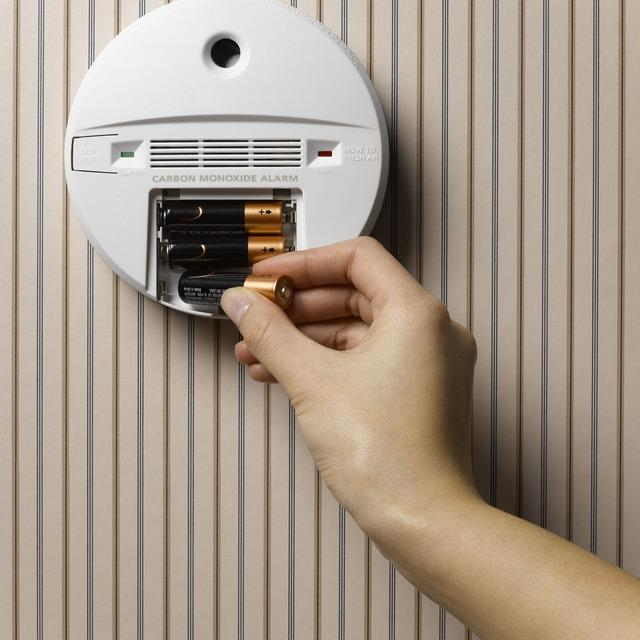Smoke-Detector: (62, 0, 386, 242)
